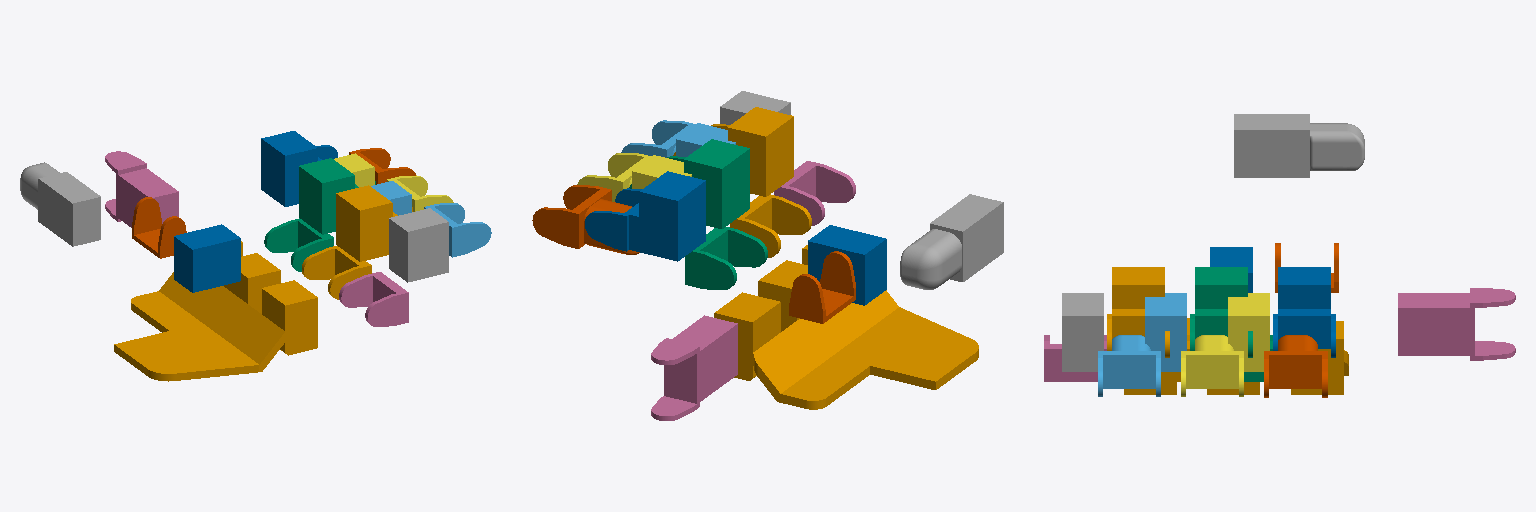
robot.urdf — leap_right:
<?xml version="1.0" ?>
<robot name="leap_right">

  <link name="palm_lower">
    <visual>
      <origin xyz="-0.0200 0.02575 -0.0347" rpy="0 0 0"/>
      <geometry>
        <mesh filename="./meshes/visual/palm_lower.stl"/>
      </geometry>
      
    </visual>

    <collision>     <!-- palm_lower -->
      <origin xyz="-0.009 0.008 -0.011" rpy="0 0 0"/>
      <geometry>
        <box size="0.022 0.026 0.034"/>
      </geometry>
    </collision>
    <collision>
      <origin xyz="-0.009 -0.037 -0.011" rpy="0 0 0"/>
      <geometry>
        <box size="0.022 0.026 0.034"/>
      </geometry>
    </collision>
    <collision>
      <origin xyz="-0.009 -0.082 -0.011" rpy="0 0 0"/>
      <geometry>
        <box size="0.022 0.026 0.034"/>
      </geometry>
    </collision>
    <collision>
      <origin xyz="-0.066 -0.078 -0.0315" rpy="0 0 -0.2967"/>
      <geometry>
        <box size="0.058 0.02 0.006"/>
      </geometry>
    </collision>
    <collision>
      <origin xyz="-0.025 -0.035 -0.003" rpy="0 0 0"/>
      <geometry>
        <box size="0.01 0.12 0.03"/>
      </geometry>
    </collision>
    <collision>
      <origin xyz="-0.032 -0.035 -0.024" rpy="0 0.785 0"/>
      <geometry>
        <box size="0.01 0.12 0.02"/>
      </geometry>
    </collision>
    <collision>
      <origin xyz="-0.048 -0.033 -0.0315" rpy="0 0 0"/>
      <geometry>
        <box size="0.024 0.116 0.006"/>
      </geometry>
    </collision>
    <collision>
      <origin xyz="-0.078 -0.053 -0.0315" rpy="0 0 0"/>
      <geometry>
        <box size="0.044 0.052 0.006"/>
      </geometry>
    </collision>

    <inertial>
      <origin xyz="0 0 0" rpy="0 0 0"/>
      <mass value="0.237"/>
      <inertia ixx="0.000354094" ixy="-0.000001193" ixz="-0.000002445" iyy="0.000260915" iyz="-0.000002905" izz="0.000529257"/>
    </inertial>
  </link>

  <joint name="palm_normal" type="fixed">
    <origin rpy="3.14159265 0 0" xyz="-0.046 0 -0.035"/>
    <parent link="palm_lower"/>
    <child link = "palm_dummy"/>
  </joint>
  <link name="palm_dummy"/>

  <link name="mcp_joint">
    <visual>
      <origin xyz="0.0084 0.0077 0.01465" rpy="0 0 0"/>
      <geometry>
        <mesh filename="./meshes/visual/mcp_joint.stl"/>
      </geometry>
      
    </visual>
    <collision>
      <origin xyz="0 0 0" rpy="0 0 0" />
      <geometry>
        <mesh filename="./meshes/collision/mcp_joint.stl"/>
      </geometry>
    </collision>
    <inertial>
      <origin xyz="0 0 0" rpy="0 0 0"/>
      <mass value="0.044"/>
      <inertia ixx="0.000011499" ixy="0.000003049" ixz="0.000000121" iyy="0.000007796" iyz="0.000000112" izz="0.000014759"/>
    </inertial>
  </link>
  <link name="pip">
    <visual>
      <origin xyz="0.0096 0.0002 0.0007" rpy="-1.57079 -1.57079 0"/>
      <geometry>
        <mesh filename="meshes/visual/pip.stl"/>
      </geometry>
      
    </visual>
    <collision>
      <origin xyz="0 0 0" rpy="0 0 0" />
      <geometry>
        <mesh filename="./meshes/collision/pip.stl"/>
      </geometry>
    </collision>
    <inertial>
      <origin xyz="0 0 0" rpy="0 0 0"/>
      <mass value="0.032"/>
      <inertia ixx="0.000004798" ixy="0.000000012" ixz="0.000000004" iyy="0.000002862" iyz="0.000000011" izz="0.000004234"/>
    </inertial>
  </link>
  <link name="dip">
    <visual>
      <origin xyz="0.0211 -0.0084 0.0097" rpy="-3.1415926 0 0"/>
      <geometry>
        <mesh filename="meshes/visual/dip.stl"/>
      </geometry>
      
    </visual>
    <collision>
      <origin xyz="0 0 0" rpy="0 0 0" />
      <geometry>
        <mesh filename="./meshes/collision/dip.stl"/>
      </geometry>
    </collision>
    <inertial>
      <origin xyz="0 0 0" rpy="0 0 0"/>
      <mass value="0.037"/>
      <inertia ixx="0.000005542" ixy="-0.000000607" ixz="-0.000000017" iyy="0.000005727" iyz="-0.000000023" izz="0.000006682"/>
    </inertial>
  </link>
  <link name="fingertip">
    <visual>
      <origin xyz="0.0132 -0.0061 0.0144" rpy="3.1415926 0 0"/>
      <geometry>
        <mesh filename="meshes/visual/fingertip.stl"/>
      </geometry>
      
    </visual>
    <collision>
      <origin xyz="0 0 0" rpy="0 0 0" />
      <geometry>
        <mesh filename="./meshes/collision/fingertip.stl"/>
      </geometry>
    </collision>
    <inertial>
      <origin xyz="0 0 0" rpy="0 0 0"/>
      <mass value="0.016"/>
      <inertia ixx="0.000003368" ixy="0.000000115" ixz="0" iyy="0.000001556" iyz="0" izz="0.000002863"/>
    </inertial>
  </link>

  <joint name="joint_0" type="revolute">
    <origin xyz="-0.0122 0.03810 0.01450" rpy="-1.57079 0 1.57079"/>
    <parent link="mcp_joint"/>
    <child link="pip"/>
    <axis xyz="0 0 -1"/>
    <limit effort="0.95" velocity="8.48" lower="-0.523599" upper="0.523599"/>
    <!-- <limit effort="0.95" velocity="8.48" lower="-1.047" upper="1.047"/> -->
    <!-- <joint_properties friction="0.0"/> -->
  </joint>
  <joint name="joint_1" type="revolute">
    <origin xyz="-0.0070 0.0230 -0.0187" rpy="1.57079 1.57079 0"/>
    <parent link="palm_lower"/>
    <child link="mcp_joint"/>
    <axis xyz="0 0 -1"/>
    <limit effort="0.95" velocity="8.48" lower="-0.261799" upper="1.91986"/>
    <!-- <limit effort="0.95" velocity="8.48" lower="-0.314" upper="2.23"/> -->
    <!-- <joint_properties friction="0.0"/> -->
  </joint>
  <joint name="joint_2" type="revolute">
    <origin xyz="0.015 0.0143 -0.013" rpy="1.57079 -1.57079 0"/>
    <parent link="pip"/>
    <child link="dip"/>
    <axis xyz="0 0 -1"/>
    <limit effort="0.95" velocity="8.48" lower="-0.261799" upper="1.91986"/>
    <!-- <limit effort="0.95" velocity="8.48" lower="-0.506" upper="1.885"/> -->
    <!-- <joint_properties friction="0.0"/> -->
  </joint>
  <joint name="joint_3" type="revolute">
    <origin xyz="0 -0.0361 0.0002" rpy="0 0 0"/>
    <parent link="dip"/>
    <child link="fingertip"/>
    <axis xyz="0 0 -1"/>
    <limit effort="0.95" velocity="8.48" lower="-0.261799" upper="1.91986"/>
    <!-- <limit effort="0.95" velocity="8.48" lower="-0.366" upper="2.042"/> -->
    <!-- <joint_properties friction="0.0"/> -->
  </joint>
  <joint name="index_ft_0" type="fixed">
    <origin rpy="0.0 -1.5708 0.0" xyz="-0.01 -0.049 0.014"/>
    <parent link="fingertip"/>
    <child link="i_ft_d0"/>
  </joint>
  <joint name="index_ft" type="fixed">
      <origin rpy="0.0 0.0 -1.5708" xyz="0.0 0.0 0.0"/>
      <parent link="i_ft_d0"/>
      <child link="i_ft_d1"/>
  </joint>
  <link name="i_ft_d0"/>
  <link name="i_ft_d1"/>
  <link name="mcp_joint_2">
    <visual>
      <origin xyz="0.0084 0.0077 0.01465" rpy="0 0 0"/>
      <geometry>
        <mesh filename="meshes/visual/mcp_joint.stl"/>
      </geometry>
      
    </visual>
    <collision>
      <origin xyz="0 0 0" rpy="0 0 0" />
      <geometry>
        <mesh filename="./meshes/collision/mcp_joint.stl"/>
      </geometry>
    </collision>
    <inertial>
      <origin xyz="0 0 0" rpy="0 0 0"/>
      <mass value="0.044"/>
      <inertia ixx="0.000011499" ixy="0.000003049" ixz="0.000000121" iyy="0.000007796" iyz="0.000000112" izz="0.000014759"/>
    </inertial>
  </link>
  <link name="pip_2">
    <visual>
      <origin xyz="0.0096 0.0003 0.0007" rpy="-1.57079 -1.57079 0"/>
      <geometry>
        <mesh filename="meshes/visual/pip.stl"/>
      </geometry>
      
    </visual>
    <collision>
      <origin xyz="0 0 0" rpy="0 0 0" />
      <geometry>
        <mesh filename="./meshes/collision/pip.stl"/>
      </geometry>
    </collision>
    <inertial>
      <origin xyz="0 0 0" rpy="0 0 0"/>
      <mass value="0.032"/>
      <inertia ixx="0.000004798" ixy="0.000000012" ixz="0.000000004" iyy="0.000002862" iyz="0.000000011" izz="0.000004234"/>
    </inertial>
  </link>
  <link name="dip_2">
    <visual>
      <origin xyz="0.0211 -0.0084 0.0097" rpy="-3.14159 0 0"/>
      <geometry>
        <mesh filename="meshes/visual/dip.stl"/>
      </geometry>
      
    </visual>
    <collision>
      <origin xyz="0 0 0" rpy="0 0 0" />
      <geometry>
        <mesh filename="./meshes/collision/dip.stl"/>
      </geometry>
    </collision>
    <inertial>
      <origin xyz="0 0 0" rpy="0 0 0"/>
      <mass value="0.037"/>
      <inertia ixx="0.000005542" ixy="-0.000000607" ixz="-0.000000017" iyy="0.000005727" iyz="-0.000000023" izz="0.000006682"/>
    </inertial>
  </link>
  <link name="fingertip_2">
    <visual>
      <origin xyz="0.0132 -0.0061 0.01450" rpy="3.14159 0 0"/>
      <geometry>
        <mesh filename="meshes/visual/fingertip.stl"/>
      </geometry>
      
    </visual>
    <collision>
      <origin xyz="0 0 0" rpy="0 0 0" />
      <geometry>
        <mesh filename="./meshes/collision/fingertip.stl"/>
      </geometry>
    </collision>
    <inertial>
      <origin xyz="0 0 0" rpy="0 0 0"/>
      <mass value="0.016"/>
      <inertia ixx="0.000003368" ixy="0.000000115" ixz="0" iyy="0.000001556" iyz="0" izz="0.000002863"/>
    </inertial>
  </link>
  <joint name="joint_4" type="revolute">
    <origin xyz="-0.0122 0.0381 0.0145" rpy="-1.57079 0 1.57079"/>
    <parent link="mcp_joint_2"/>
    <child link="pip_2"/>
    <axis xyz="0 0 -1"/>
    <limit effort="0.95" velocity="8.48" lower="-0.523599" upper="0.523599"/>
    <!-- <joint_properties friction="0.0"/> -->
  </joint>
  <joint name="joint_5" type="revolute">
    <origin xyz="-0.0071 -0.0224 -0.0187" rpy="1.57079 1.57079 0"/>
    <parent link="palm_lower"/>
    <child link="mcp_joint_2"/>
    <axis xyz="0 0 -1"/>
    <limit effort="0.95" velocity="8.48" lower="-0.261799" upper="1.91986"/>
    <!-- <joint_properties friction="0.0"/> -->
  </joint>
  <joint name="joint_6" type="revolute">
    <origin xyz="0.015 0.0143 -0.013" rpy="1.57079 -1.57079 0"/>
    <parent link="pip_2"/>
    <child link="dip_2"/>
    <axis xyz="0 0 -1"/>
    <limit effort="0.95" velocity="8.48" lower="-0.261799" upper="1.91986"/>
    <!-- <joint_properties friction="0.0"/> -->
  </joint>
  <joint name="joint_7" type="revolute">
    <origin xyz="0 -0.0361 0.0002" rpy="0 0 0"/>
    <parent link="dip_2"/>
    <child link="fingertip_2"/>
    <axis xyz="0 0 -1"/>
    <limit effort="0.95" velocity="8.48" lower="-0.261799" upper="1.91986"/>
    <!-- <joint_properties friction="0.0"/> -->
  </joint>
  <joint name="middle_ft_0" type="fixed">
    <origin rpy="0.0 -1.5708 0.0" xyz="-0.01 -0.049 0.014"/>
    <parent link="fingertip_2"/>
    <child link="m_ft_d0"/>
  </joint>
  <joint name="middle_ft" type="fixed">
      <origin rpy="0.0 0.0 -1.5708" xyz="0.0 0.0 0.0"/>
      <parent link="m_ft_d0"/>
      <child link="m_ft_d1"/>
  </joint>
  <link name="m_ft_d0"/>
  <link name="m_ft_d1"/>
  <link name="mcp_joint_3">
    <visual>
      <origin xyz="0.0084 0.0077 0.01465" rpy="0 0 0"/>
      <geometry>
        <mesh filename="meshes/visual/mcp_joint.stl"/>
      </geometry>
      
    </visual>
    <collision>
      <origin xyz="0 0 0" rpy="0 0 0" />
      <geometry>
        <mesh filename="./meshes/collision/mcp_joint.stl"/>
      </geometry>
    </collision>
    <inertial>
      <origin xyz="0 0 0" rpy="0 0 0"/>
      <mass value="0.044"/>
      <inertia ixx="0.000011499" ixy="0.000003049" ixz="0.000000121" iyy="0.000007796" iyz="0.000000112" izz="0.000014759"/>
    </inertial>
  </link>
  <link name="pip_3">
    <visual>
      <origin xyz="0.0096 0.0003 0.0007" rpy="-1.57079 -1.57079 0"/>
      <geometry>
        <mesh filename="meshes/visual/pip.stl"/>
      </geometry>
      
    </visual>
    <collision>
      <origin xyz="0 0 0" rpy="0 0 0" />
      <geometry>
        <mesh filename="./meshes/collision/pip.stl"/>
      </geometry>
    </collision>
    <inertial>
      <origin xyz="0 0 0" rpy="0 0 0"/>
      <mass value="0.032"/>
      <inertia ixx="0.000004798" ixy="0.000000012" ixz="0.000000004" iyy="0.000002862" iyz="0.000000011" izz="0.000004234"/>
    </inertial>
  </link>
  <link name="dip_3">
    <visual>
      <origin xyz="0.0211 -0.0084 0.0097" rpy="-3.14159 0 0"/>
      <geometry>
        <mesh filename="meshes/visual/dip.stl"/>
      </geometry>
      
    </visual>
    <collision>
      <origin xyz="0 0 0" rpy="0 0 0" />
      <geometry>
        <mesh filename="./meshes/collision/dip.stl"/>
      </geometry>
    </collision>
    <inertial>
      <origin xyz="0 0 0" rpy="0 0 0"/>
      <mass value="0.037"/>
      <inertia ixx="0.000005542" ixy="-0.000000607" ixz="-0.000000017" iyy="0.000005727" iyz="-0.000000023" izz="0.000006682"/>
    </inertial>
  </link>
  <link name="fingertip_3">
    <visual>
      <origin xyz="0.0132 -0.0061 0.0145" rpy="3.14159 0 0"/>
      <geometry>
        <mesh filename="meshes/visual/fingertip.stl"/>
      </geometry>
      
    </visual>
    <collision>
      <origin xyz="0 0 0" rpy="0 0 0" />
      <geometry>
        <mesh filename="./meshes/collision/fingertip.stl"/>
      </geometry>
    </collision>
    <inertial>
      <origin xyz="0 0 0" rpy="0 0 0"/>
      <mass value="0.016"/>
      <inertia ixx="0.000003368" ixy="0.000000115" ixz="0" iyy="0.000001556" iyz="0" izz="0.000002863"/>
    </inertial>
  </link>
  <joint name="joint_8" type="revolute">
    <origin xyz="-0.0122 0.0381 0.0145" rpy="-1.57079 0 1.57079"/>
    <parent link="mcp_joint_3"/>
    <child link="pip_3"/>
    <axis xyz="0 0 -1"/>
    <limit effort="0.95" velocity="8.48" lower="-0.523599" upper="0.523599"/>
    <!-- <joint_properties friction="0.0"/> -->
  </joint>
  <joint name="joint_9" type="revolute">
    <origin xyz="-0.00709 -0.0678 -0.0187" rpy="1.57079 1.57079 0"/>
    <parent link="palm_lower"/>
    <child link="mcp_joint_3"/>
    <axis xyz="0 0 -1"/>
    <limit effort="0.95" velocity="8.48" lower="-0.261799" upper="1.91986"/>
    <!-- <joint_properties friction="0.0"/> -->
  </joint>
  <joint name="joint_10" type="revolute">
    <origin xyz="0.015 0.0143 -0.013" rpy="1.57079 -1.57079 0"/>
    <parent link="pip_3"/>
    <child link="dip_3"/>
    <axis xyz="0 0 -1"/>
    <limit effort="0.95" velocity="8.48" lower="-0.261799" upper="1.91986"/>
    <!-- <joint_properties friction="0.0"/> -->
  </joint>
  <joint name="joint_11" type="revolute">
    <origin xyz="0 -0.03609 0.0002" rpy="0 0 0"/>
    <parent link="dip_3"/>
    <child link="fingertip_3"/>
    <axis xyz="0 0 -1"/>
    <limit effort="0.95" velocity="8.48" lower="-0.261799" upper="1.91986"/>
    <!-- <joint_properties friction="0.0"/> -->
  </joint>
  <joint name="ring_ft_0" type="fixed">
    <origin rpy="0.0 -1.5708 0.0" xyz="-0.01 -0.049 0.014"/>
    <parent link="fingertip_3"/>
    <child link="r_ft_d0"/>
  </joint>
  <joint name="ring_ft" type="fixed">
      <origin rpy="0.0 0.0 -1.5708" xyz="0.0 0.0 0.0"/>
      <parent link="r_ft_d0"/>
      <child link="r_ft_d1"/>
  </joint>
  <link name="r_ft_d0"/>
  <link name="r_ft_d1"/>
  <link name="thumb_temp_base">
    <visual>
      <origin xyz="-0.0053 0.0003 0.00078" rpy="-1.57079 -1.57079 0"/>
      <geometry>
        <mesh filename="meshes/visual/pip.stl"/>
      </geometry>
      
    </visual>
    <collision>
      <origin xyz="0 0 0" rpy="0 0 0" />
      <geometry>
        <mesh filename="./meshes/collision/thumb_mcp_joint.stl"/>
      </geometry>
    </collision>
    <inertial>
      <origin xyz="0 0 0" rpy="0 0 0"/>
      <mass value="0.032"/>
      <inertia ixx="0.000004798" ixy="0.000000012" ixz="0.000000004" iyy="0.000002862" iyz="0.000000011" izz="0.000004234"/>
    </inertial>
  </link>
  <link name="thumb_pip">
    <visual>
      <origin xyz="0.01196 0 -0.0158" rpy="1.57079 0 0"/>
      <geometry>
        <mesh filename="meshes/visual/thumb_pip.stl"/>
      </geometry>
      
    </visual>
    <collision>
      <origin xyz="0 0 0" rpy="0 0 0" />
      <geometry>
        <mesh filename="./meshes/collision/thumb_pip.stl"/>
      </geometry>
    </collision>
    <inertial>
      <origin xyz="0 0 0" rpy="0 0 0"/>
      <mass value="0.003"/>
      <inertia ixx="0.000000593" ixy="0" ixz="0" iyy="0.000000549" iyz="0" izz="0.000000224"/>
    </inertial>
  </link>
  <link name="thumb_dip">
    <visual>
      <origin xyz="0.0439 0.0579 -0.0086" rpy="0 0 0"/>
      <geometry>
        <mesh filename="meshes/visual/thumb_dip.stl"/>
      </geometry>
      
    </visual>
    <collision>
      <origin xyz="0 0 0" rpy="0 0 0" />
      <geometry>
        <mesh filename="./meshes/collision/thumb_dip.stl"/>
      </geometry>
    </collision>
    <inertial>
      <origin xyz="0 0 0" rpy="0 0 0"/>
      <mass value="0.038"/>
      <inertia ixx="0.000008474" ixy="0.000000241" ixz="0.000000026" iyy="0.000003841" iyz="0.000000025" izz="0.000007679"/>
    </inertial>
  </link>
  <link name="thumb_fingertip">
    <visual>
      <origin xyz="0.0625 0.0784 0.0489" rpy="0 0 0"/>
      <geometry>
        <mesh filename="meshes/visual/thumb_fingertip.stl"/>
      </geometry>
      
    </visual>
    <collision>
      <origin xyz="0 0 0" rpy="0 0 0" />
      <geometry>
        <mesh filename="./meshes/collision/thumb_fingertip.stl"/>
      </geometry>
    </collision>
    <inertial>
      <origin xyz="0 0 0" rpy="0 0 0"/>
      <mass value="0.049"/>
      <inertia ixx="0.000020372" ixy="-0.000000489" ixz="-0.00000003" iyy="0.000004336" iyz="-0.000000097" izz="0.000019845"/>
    </inertial>
  </link>
  <joint name="joint_12" type="revolute">
    <origin xyz="-0.0693 -0.0012 -0.0216" rpy="0 1.57079 0"/>
    <parent link="palm_lower"/>
    <child link="thumb_temp_base"/>
    <axis xyz="0 0 -1"/>
    <limit effort="0.95" velocity="8.48" lower="0.0" upper="1.571"/>
    <!-- <limit effort="0.95" velocity="8.48" lower="-0.349" upper="2.094"/> -->
    <!-- <joint_properties friction="0.0"/> -->
  </joint>
  <joint name="joint_13" type="revolute">
    <origin xyz="0 0.0143 -0.013" rpy="1.57079 -1.57079 0"/>
    <parent link="thumb_temp_base"/>
    <child link="thumb_pip"/>
    <axis xyz="0 0 -1"/>
    <limit effort="0.95" velocity="8.48" lower="0.0" upper="1.571" />
    <!-- <limit effort="0.95" velocity="8.48" lower="-0.47" upper="2.443"/> -->
    <!-- <joint_properties friction="0.0"/> -->
  </joint>
  <joint name="joint_14" type="revolute">
    <origin xyz="0 0.0145 -0.017" rpy="-1.57079 0 0"/>
    <parent link="thumb_pip"/>
    <child link="thumb_dip"/>
    <axis xyz="0 0 -1"/>
    <limit effort="0.95" velocity="8.48" lower="-0.349066" upper="1.74533"/>
    <!-- <limit effort="0.95" velocity="8.48" lower="-1.20" upper="1.90"/> -->
    <!-- <joint_properties friction="0.0"/> -->
  </joint>
  <joint name="joint_15" type="revolute">
    <origin xyz="0 0.0466 0.0002" rpy="0 0 3.14159"/>
    <parent link="thumb_dip"/>
    <child link="thumb_fingertip"/>
    <axis xyz="0 0 -1"/>
    <limit effort="0.95" velocity="8.48" lower="-0.349066" upper="1.74533"/>
    <!-- <limit effort="0.95" velocity="8.48" lower="-1.34" upper="1.88"/> -->
    <!-- <joint_properties friction="0.0"/> -->
  </joint>
  <joint name="thumb_ft_0" type="fixed">
    <origin rpy="0.0 -1.5708 0.0" xyz="-0.011 -0.062 -0.014"/>
    <parent link="thumb_fingertip"/>
    <child link="t_ft_d0"/>
  </joint>
  <joint name="thumb_ft" type="fixed">
      <origin rpy="0.0 0.0 -1.5708" xyz="0.0 0.0 0.0"/>
      <parent link="t_ft_d0"/>
      <child link="t_ft_d1"/>
  </joint>
  <link name="t_ft_d0"/>
  <link name="t_ft_d1"/>

  <!--  virtual auxiliary link-->
  <!-- <link name="thumb_tip_head"/>
  <link name="index_tip_head"/>
  <link name="middle_tip_head"/>
  <link name="ring_tip_head"/>
  <joint name="thumb_tip" type="fixed">
    <parent link="thumb_fingertip"/>
    <child link="thumb_tip_head"/>
    <origin rpy="0 0 0" xyz="0 -0.06 -0.015"/>
  </joint>
  <joint name="index_tip" type="fixed">
    <parent link="fingertip"/>
    <child link="index_tip_head"/>
    <origin rpy="0 0 0" xyz="0 -0.048 0.015"/>
  </joint>
  <joint name="middle_tip" type="fixed">
    <parent link="fingertip_2"/>
    <child link="middle_tip_head"/>
    <origin rpy="0 0 0" xyz="0 -0.048 0.015"/>
  </joint>
  <joint name="ring_tip" type="fixed">
    <parent link="fingertip_3"/>
    <child link="ring_tip_head"/>
    <origin rpy="0 0 0" xyz="0 -0.048 0.015"/>
  </joint> -->
</robot>

--- What the picture shows (computed from the rendered views, not written in the file) ---
The picture shows the robot from 3 angles, left to right: view 1: azimuth 30°, elevation 25°; view 2: azimuth 150°, elevation 25°; view 3: azimuth 270°, elevation 25°; orthographic projection.
Model leap_right with 26 links and 25 joints (16 revolute, 9 fixed), rooted at palm_lower, posed every joint at zero.
Visible links, largest first — view 1: palm_lower, thumb_fingertip, pip_3, thumb_temp_base, dip_3, dip, thumb_dip, dip_2, mcp_joint_3, thumb_pip, mcp_joint_2, mcp_joint (+5 smaller); view 2: palm_lower, dip, thumb_fingertip, thumb_dip, dip_3, dip_2, thumb_temp_base, mcp_joint, fingertip, thumb_pip, mcp_joint_3, mcp_joint_2 (+5 smaller); view 3: thumb_fingertip, thumb_dip, dip, pip_3, dip_2, dip_3, fingertip, fingertip_2, fingertip_3, pip, pip_2, palm_lower (+3 smaller).
Boxes of the visible links, <box> form: palm_lower: <box>114,241,317,381</box>; thumb_fingertip: <box>20,162,100,246</box>; pip_3: <box>389,208,448,282</box>; thumb_temp_base: <box>174,224,240,292</box>; dip_3: <box>336,185,412,261</box>; dip: <box>261,131,337,206</box>; thumb_dip: <box>105,151,178,227</box>; dip_2: <box>299,158,375,234</box>; mcp_joint_3: <box>339,272,408,326</box>; thumb_pip: <box>132,197,186,258</box>; mcp_joint_2: <box>302,246,371,299</box>; mcp_joint: <box>264,218,333,271</box>; palm_lower: <box>714,245,978,409</box>; dip: <box>585,171,705,261</box>; thumb_fingertip: <box>900,194,1003,289</box>; thumb_dip: <box>651,315,737,420</box>; dip_3: <box>673,107,793,196</box>; dip_2: <box>629,139,749,228</box>; thumb_temp_base: <box>808,225,886,305</box>; mcp_joint: <box>685,227,767,289</box>; fingertip: <box>532,185,639,254</box>; thumb_pip: <box>789,251,855,323</box>; mcp_joint_3: <box>774,161,855,225</box>; mcp_joint_2: <box>730,194,811,257</box>; thumb_fingertip: <box>1234,114,1364,177</box>; thumb_dip: <box>1398,288,1515,360</box>; dip: <box>1273,267,1335,357</box>; pip_3: <box>1062,293,1103,371</box>; dip_2: <box>1190,267,1252,357</box>; dip_3: <box>1107,267,1169,357</box>; fingertip: <box>1264,335,1327,397</box>; fingertip_2: <box>1181,335,1243,396</box>; fingertip_3: <box>1098,335,1160,396</box>; pip: <box>1228,293,1269,371</box>; pip_2: <box>1145,293,1186,371</box>; palm_lower: <box>1124,318,1348,394</box>.
Size in the robot's own frame: 0.2511 by 0.2571 by 0.1114 metres.
17 mesh visuals loaded from 8 distinct referenced files (8 binary STL).
